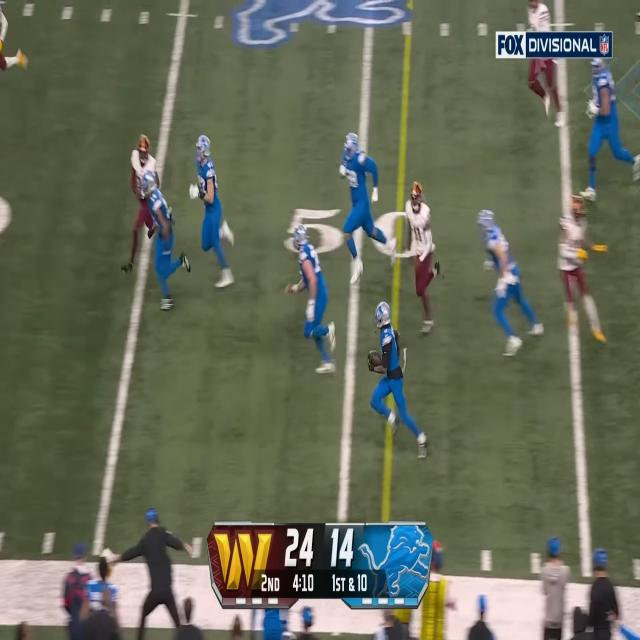Ball: (366, 348, 382, 368)
